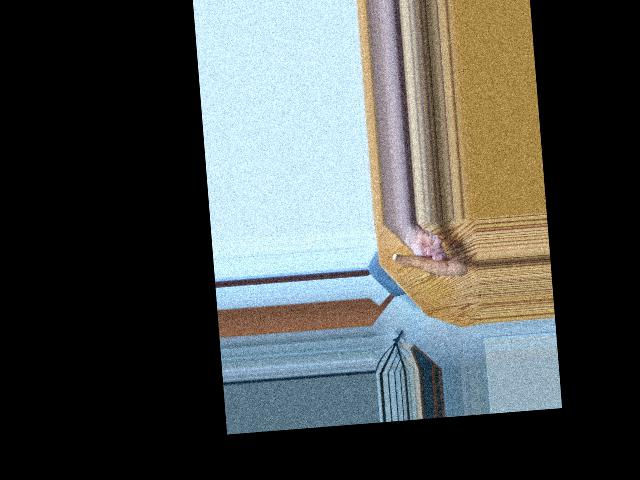sweet_potato: (392, 244, 466, 285)
